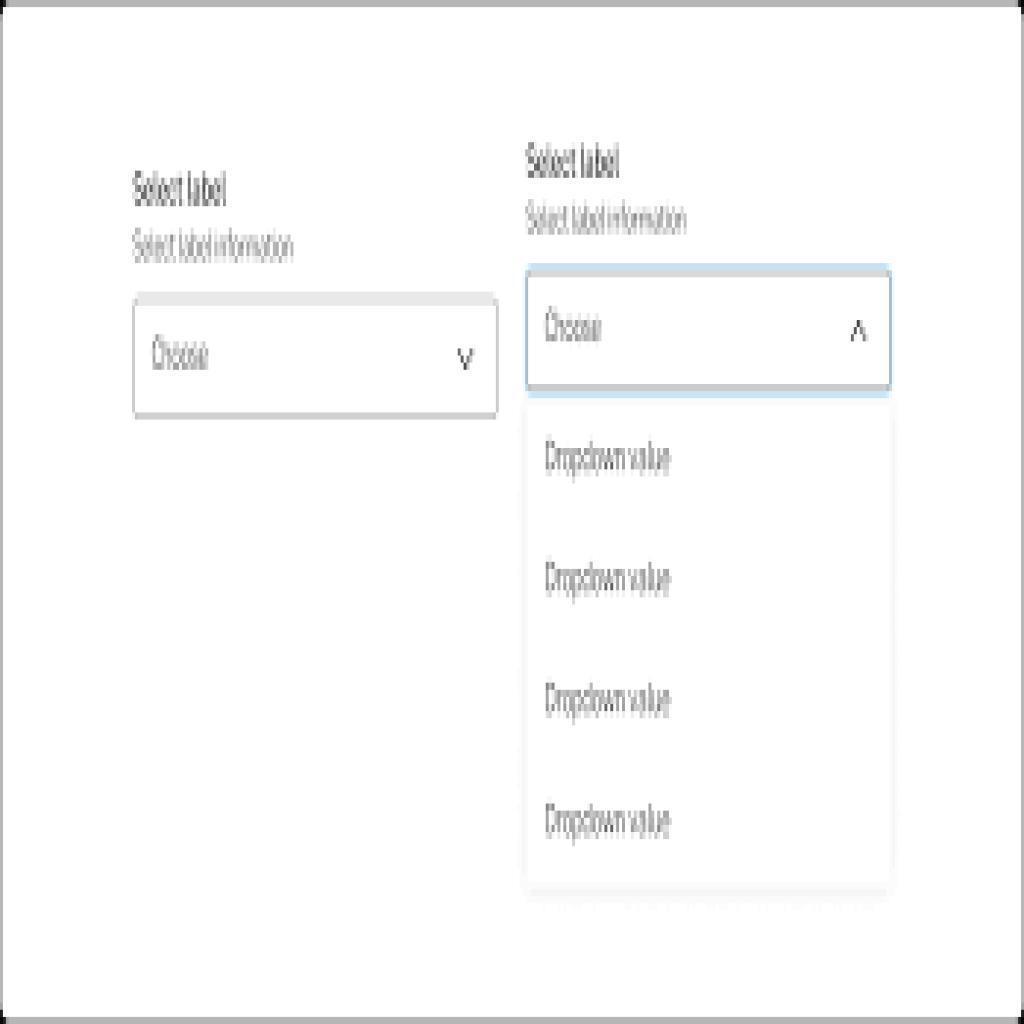dropdown: (133, 304, 501, 421), (529, 277, 888, 392)
